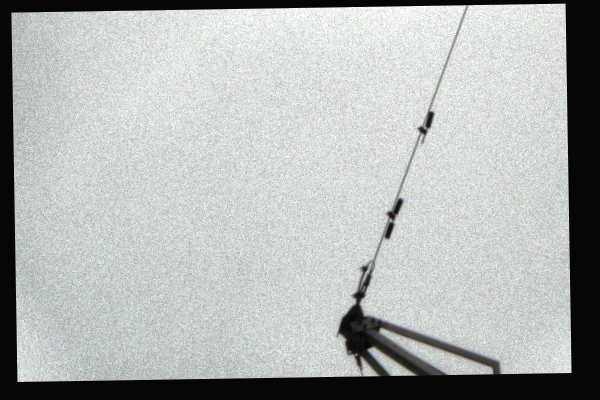damper: (381, 197, 403, 242)
damper_defect: (416, 108, 435, 146)
